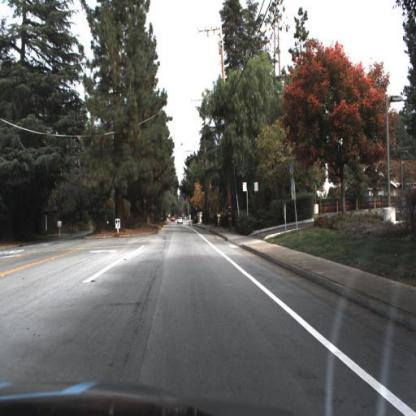car: (176, 212, 184, 226), (176, 212, 184, 224)
